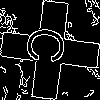C: (25, 25, 76, 67)
